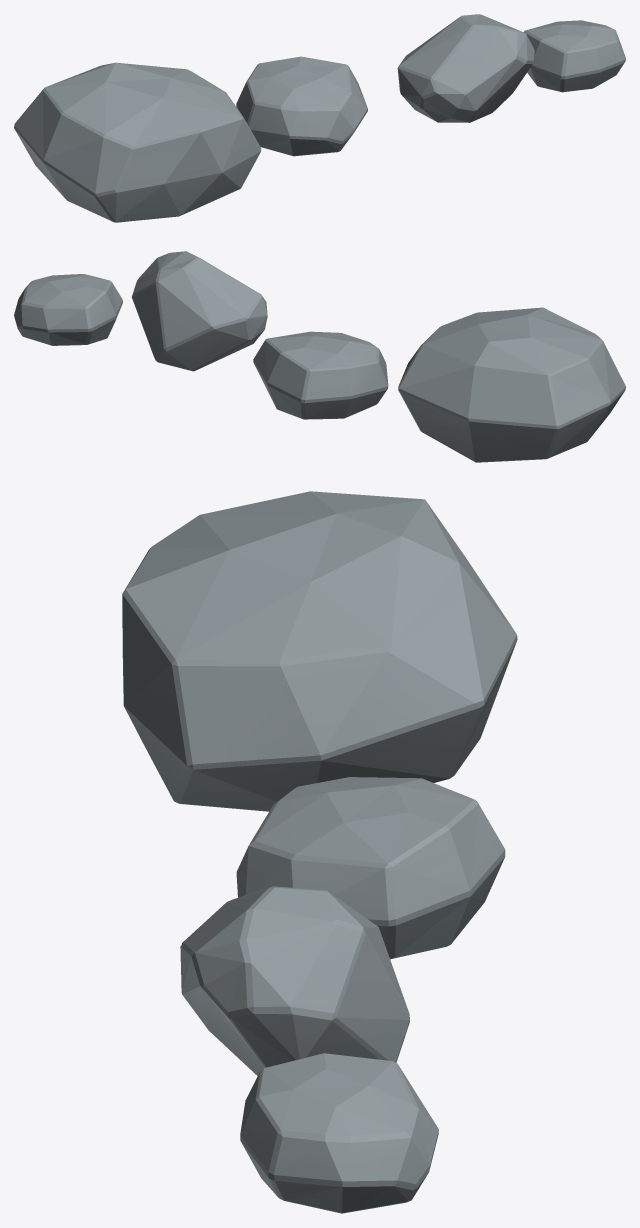
Rendered from shore_stones.glb.
3 views of the same model, one above another, from view 1: azimuth 30°, elevation 25°; view 2: azimuth 150°, elevation 25°; view 3: azimuth 270°, elevation 25° (orthographic). The views are drawn at different scales.
Visible parts, largest first — view 1: Stone_9_1_A; view 2: Stone_9_1_A; view 3: Stone_9_1_A.
Part boxes in pixels (x1,y1,x2,y2): Stone_9_1_A: [14, 14, 625, 222]; Stone_9_1_A: [14, 251, 625, 462]; Stone_9_1_A: [122, 491, 517, 1213].
Size of the model in its own units: 1.27 by 0.24 by 0.375.
Materials: 1 (1 with a texture image).
